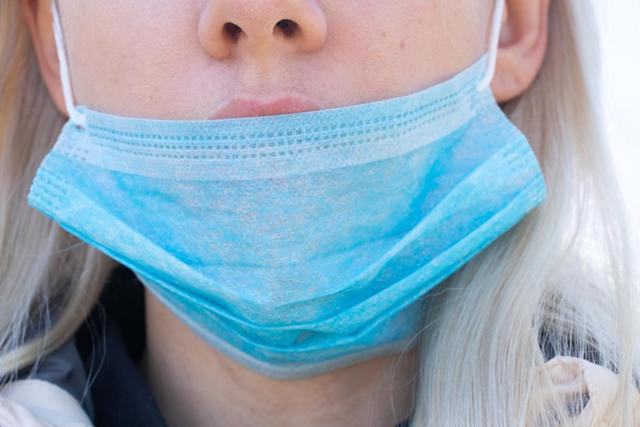WRONG: (38, 1, 522, 322)
